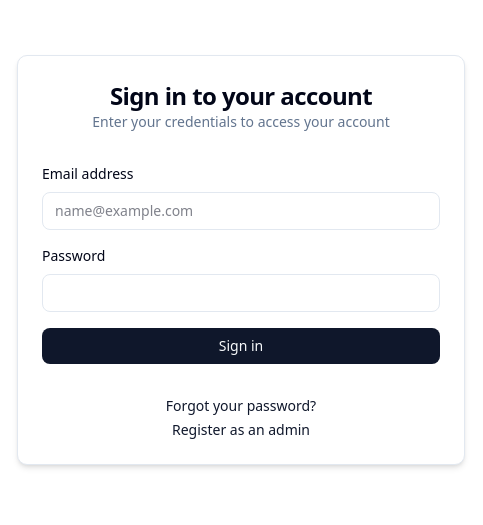
it: LoginPage › shows general error on unexpected error
The image size is (483, 525).
In the field labelled "Email address": point(241, 211) [42,192,440,230], type "user@email.com"
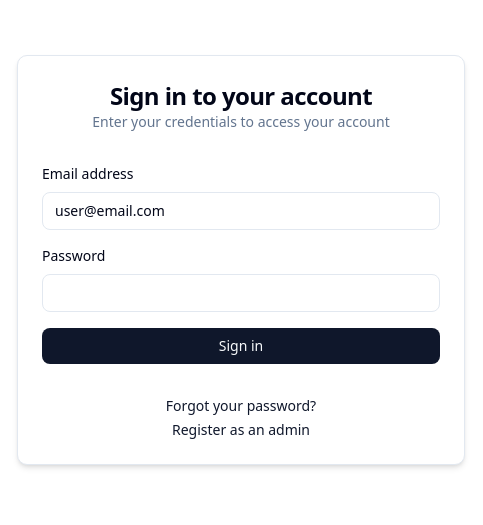
In the password field labelled "Password": point(241, 293) [42,274,440,312], type "password123"
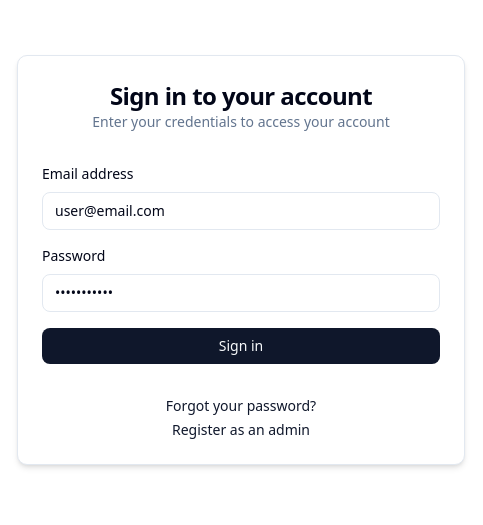
Click the button "Sign in": point(241, 346) [42,328,440,364]
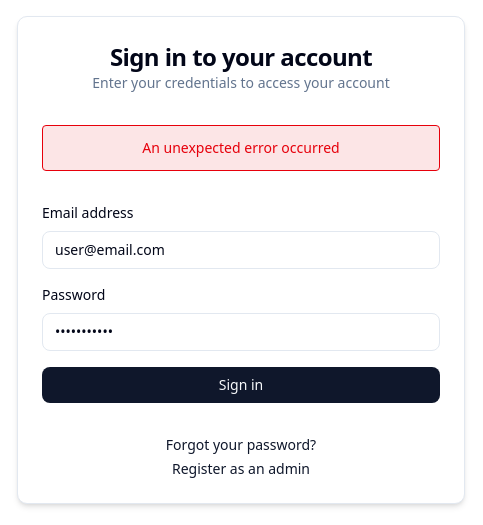
Now the text "An unexpected error occurred" is shown, box [42,125,440,171]
